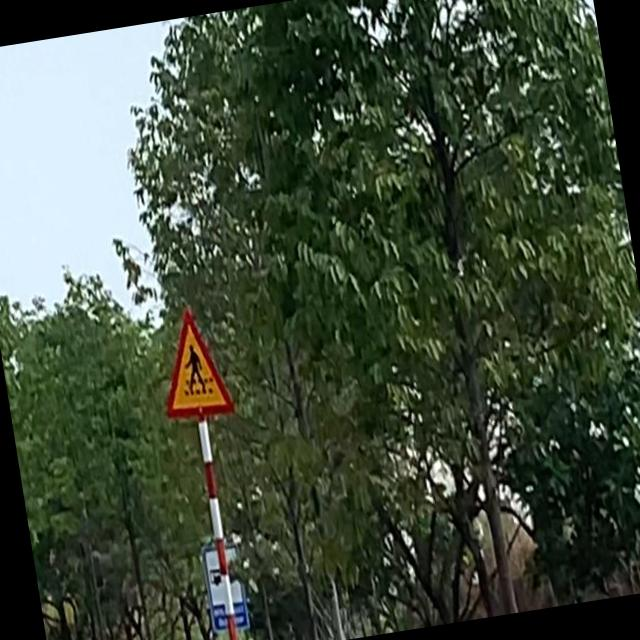W-224: (153, 302, 234, 426)
